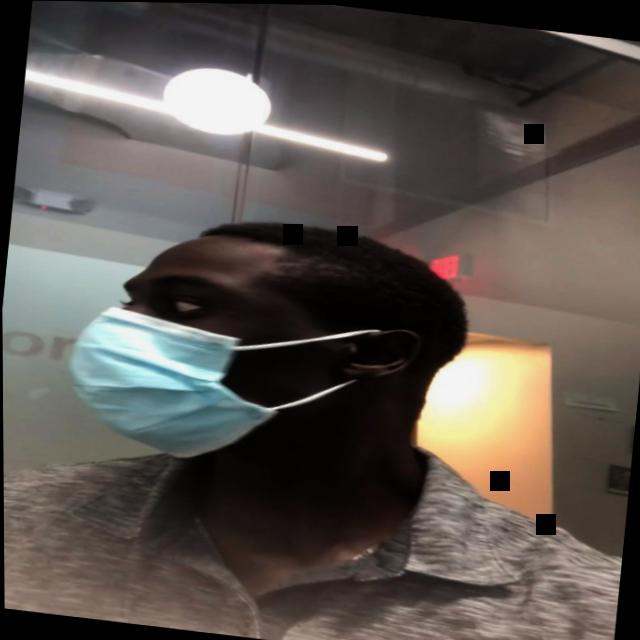Mask: (63, 228, 415, 478)
